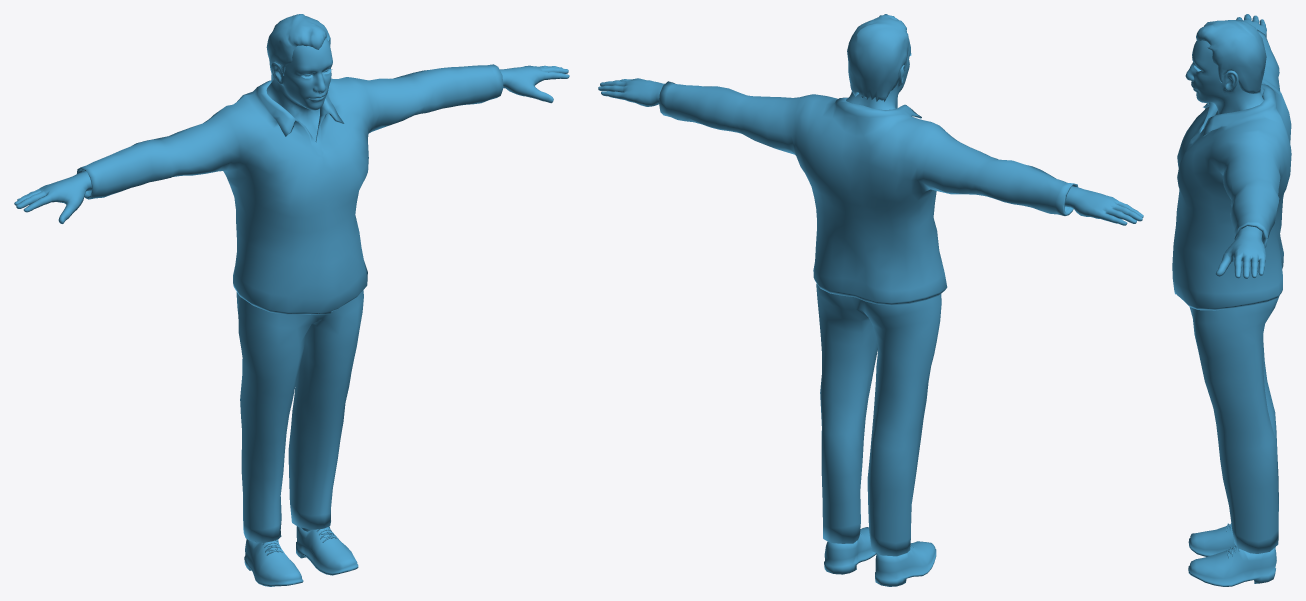
File: miesniak.FBX
3 renders of one model, left to right at view 1: azimuth 30°, elevation 25°; view 2: azimuth 150°, elevation 25°; view 3: azimuth 270°, elevation 25°, orthographic.
Parts seen in each view (by area): view 1: miesniak; view 2: miesniak; view 3: miesniak.
Part boxes in pixels (left/top/right/bottom): miesniak: left=14, top=14, right=569, bottom=586; miesniak: left=598, top=14, right=1143, bottom=586; miesniak: left=1172, top=14, right=1291, bottom=586.
Bounding box in the file's own units: 194 × 185 × 36.84.
